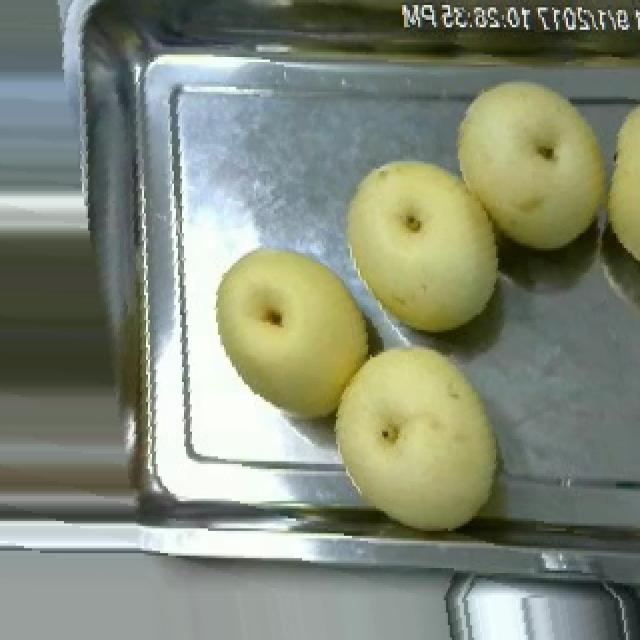Fruit: (326, 335, 510, 541), (442, 67, 622, 260), (334, 146, 510, 342), (206, 238, 382, 424)
